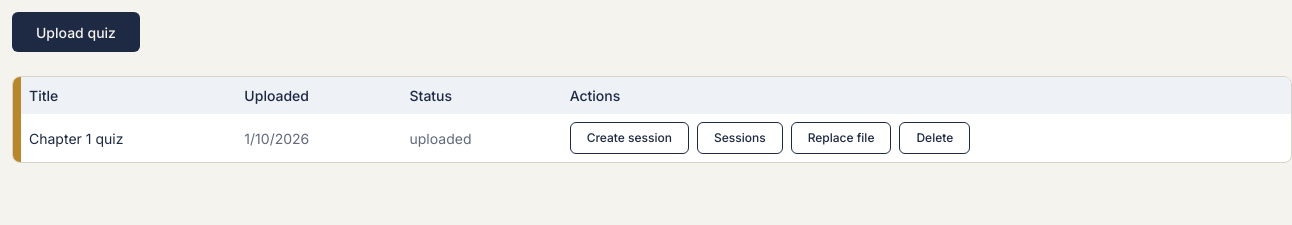
Test: QuizzesSection (QUIZ-DASHBOARD-001, extracted by COURSE-DETAIL-001) › shows an error when creating a session fails
Expected: the text "Chapter 1 quiz" is shown, 13,114 -> 228,162
Click the button "Create session": (629, 138) 570,122 -> 689,154
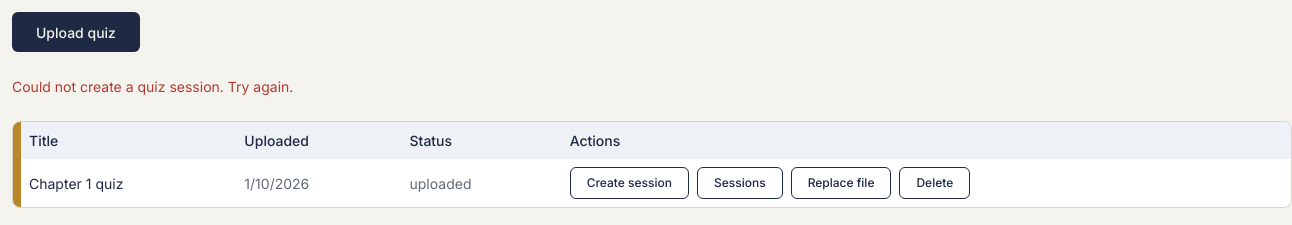
Now the text "Could not create a quiz session. Try again." is shown, box 12,78 -> 293,95
